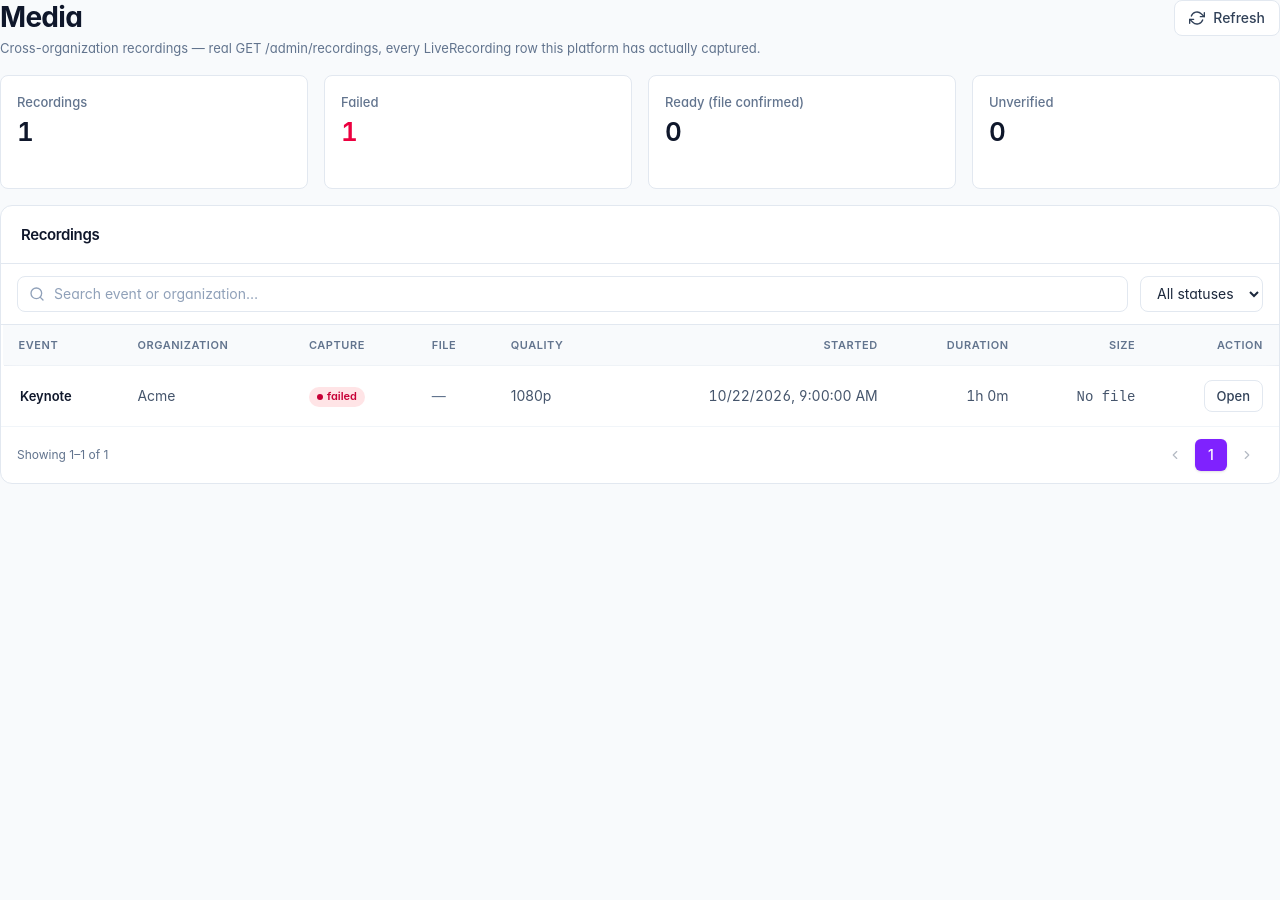
it: the recording error box › handles the spaced message from the report too
Click the button with aria-label "Open recording": [1233, 396] box top-left (1204, 380), bottom-right (1263, 412)
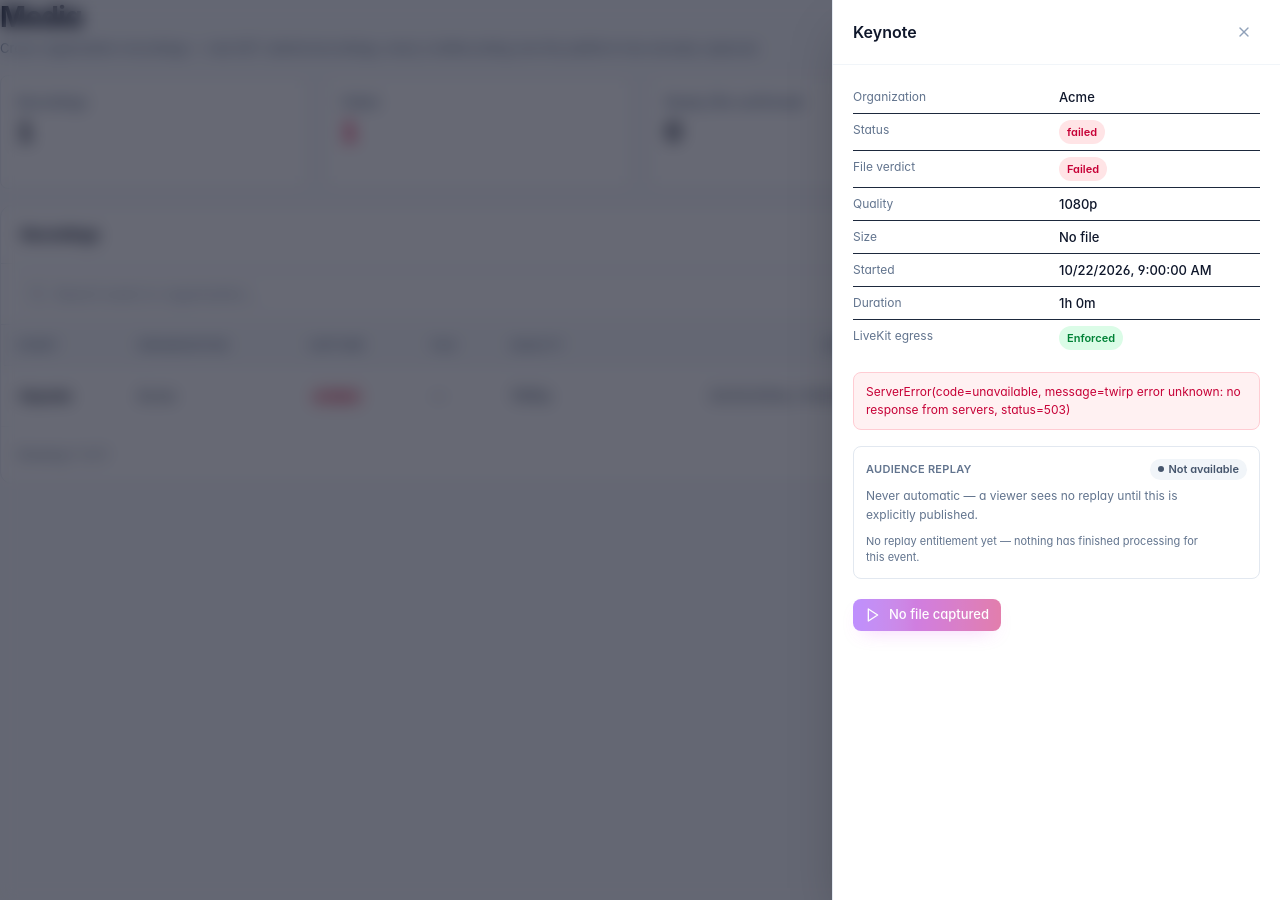
Now the text "ServerError(code=unavailable, message=twirp error unknown: no response from servers, status=503)" is shown, box top-left (866, 384), bottom-right (1241, 417)
